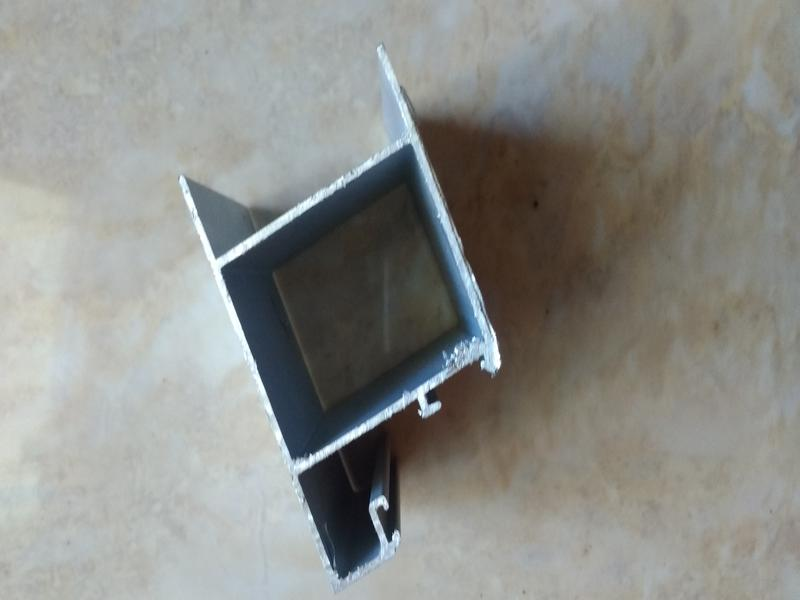Aluminium_2: (144, 24, 541, 592)
